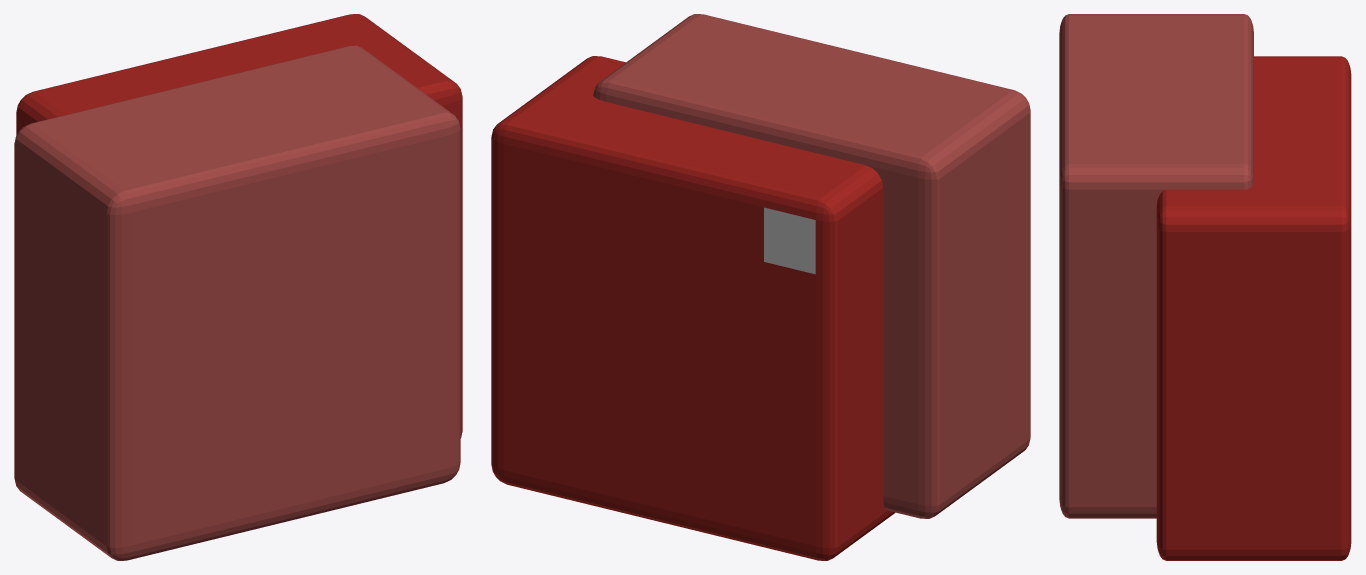
File: Sub_Highlight_Hashtag.dae
3 views of the same model, side by side, from view 1: azimuth 30°, elevation 25°; view 2: azimuth 150°, elevation 25°; view 3: azimuth 270°, elevation 25° (orthographic). The views are drawn at different scales.
Visible parts, largest first — view 1: Cube_001, Cube; view 2: Cube, Cube_001, Plane; view 3: Cube, Cube_001.
Boxes of the visible parts, bbox=[...] form: Cube_001: bbox=[14, 45, 460, 560]; Cube: bbox=[16, 14, 462, 438]; Cube: bbox=[491, 56, 895, 560]; Cube_001: bbox=[593, 14, 1030, 518]; Plane: bbox=[764, 207, 815, 274]; Cube: bbox=[1156, 56, 1351, 560]; Cube_001: bbox=[1059, 14, 1253, 518].
Bounding box in the file's own units: 2.3 × 1.5 × 2.1.
